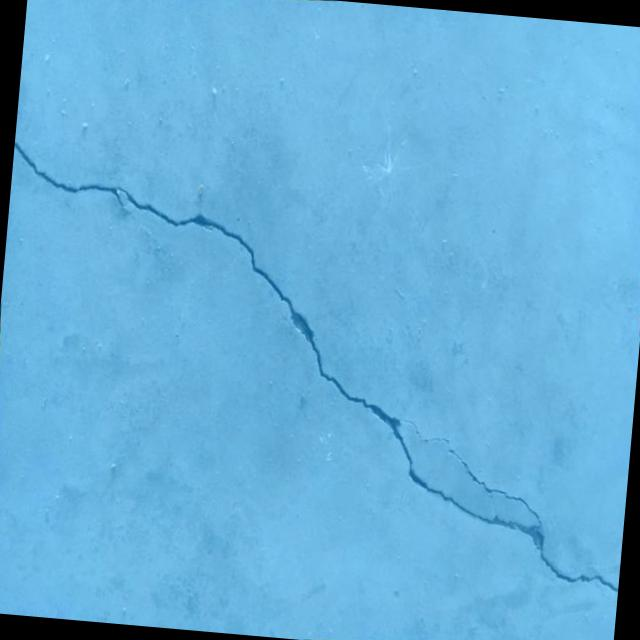crack: (0, 60, 640, 627)
